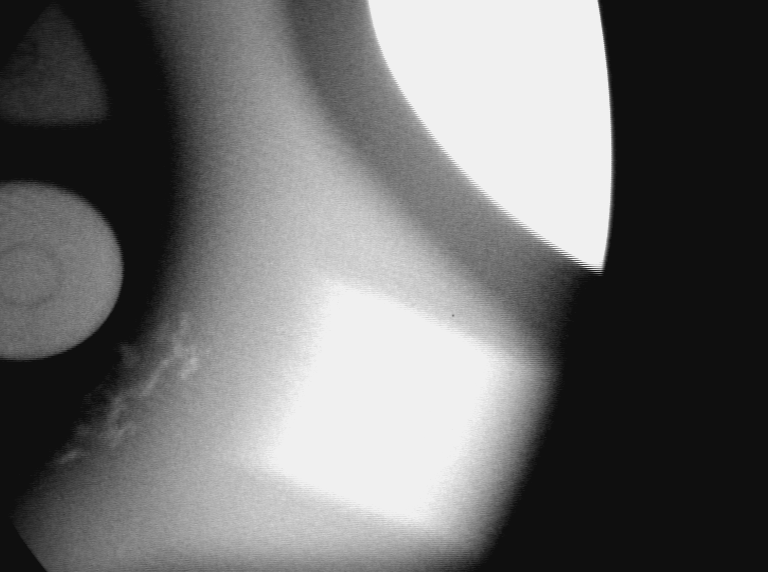defect: (49, 314, 212, 474)
